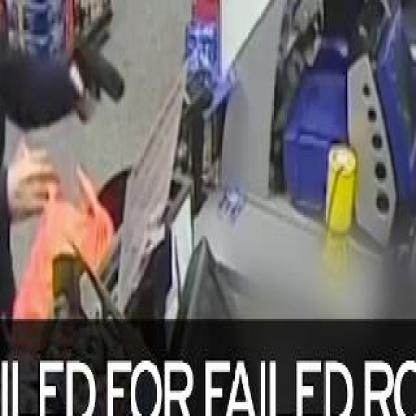gun: (67, 21, 124, 122)
